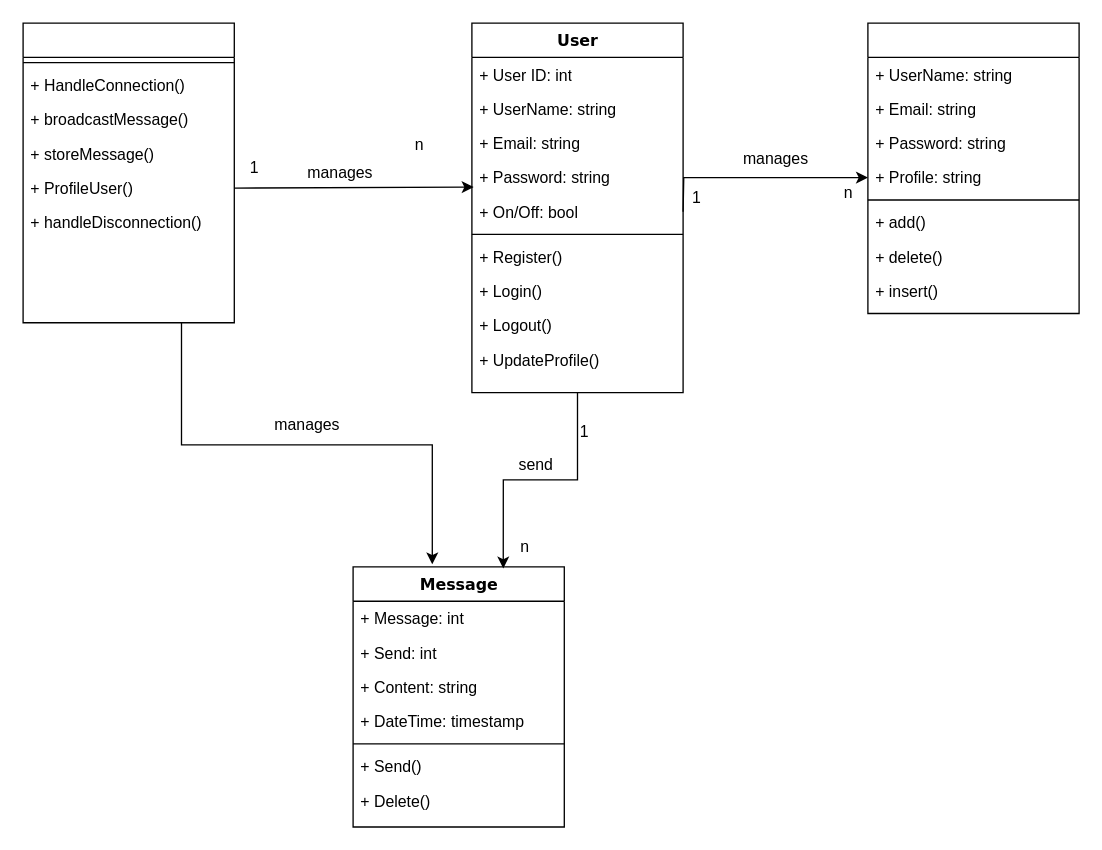
Image size: 1102x850. Some labels were removed from this diagram. Here are the shapes that lost their labels. From the top down, the box of each, then its label:
(22, 22, 234, 323): Database
(867, 22, 1079, 314): Update
